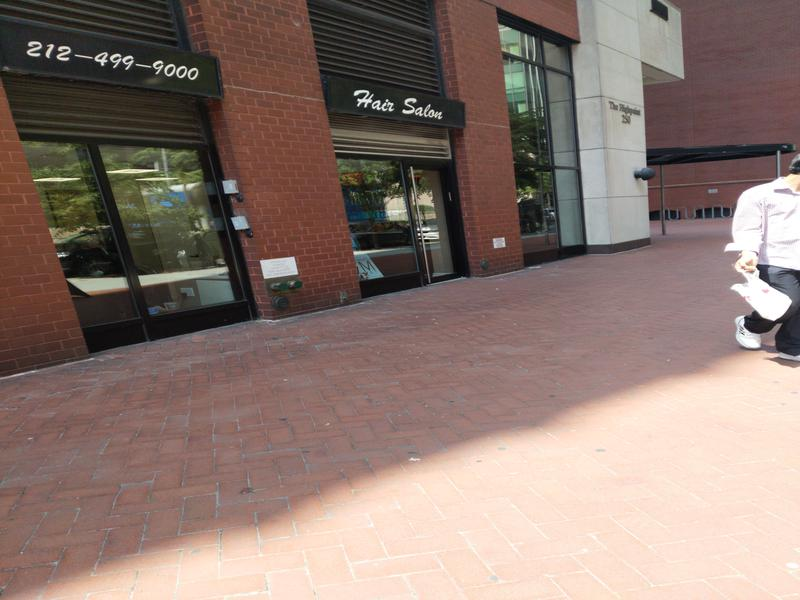door: (400, 156, 488, 299)
